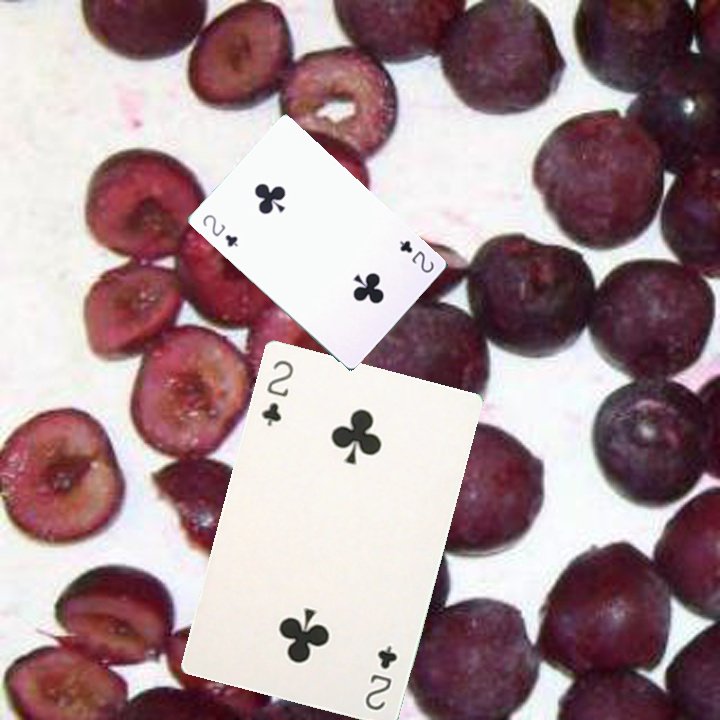2c: (257, 356, 296, 429), (361, 641, 400, 713), (198, 210, 241, 250), (395, 236, 437, 276)
